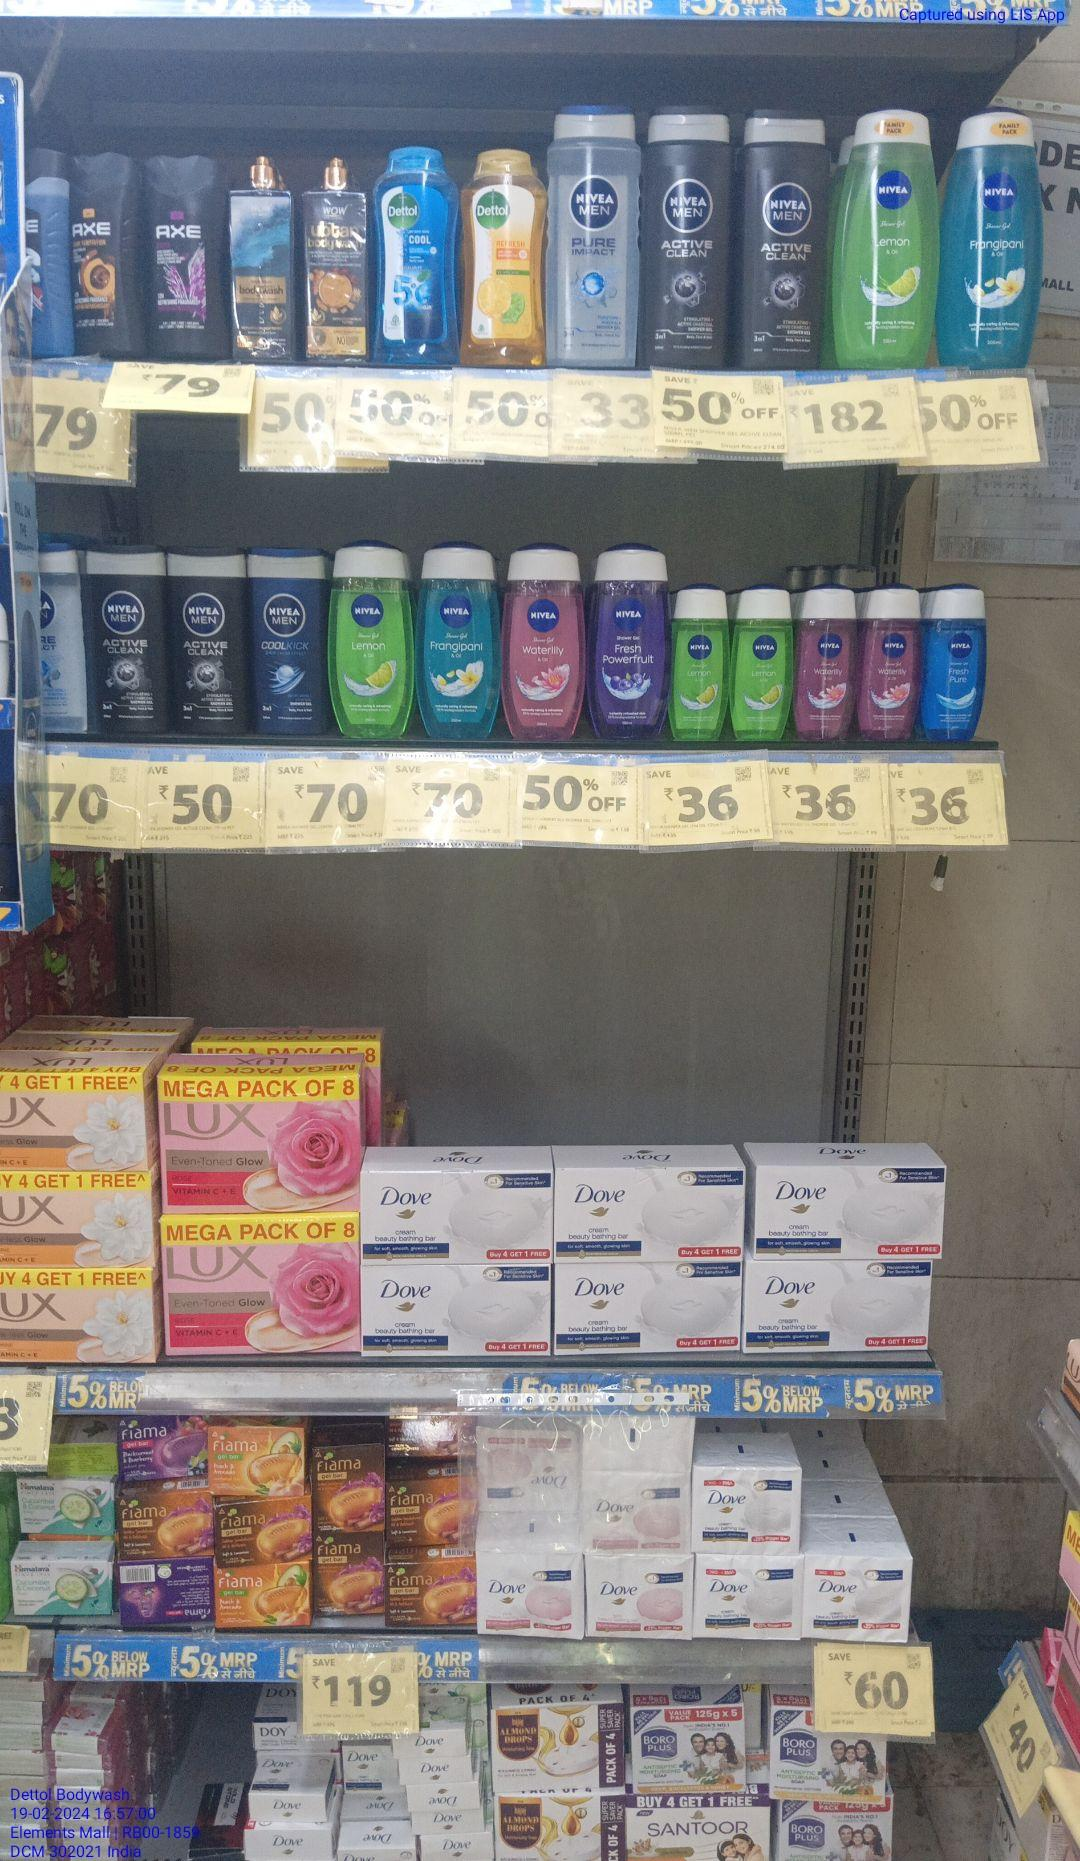Dettol_Bodywash_Cool: (374, 144, 458, 365)
Dettol_Bodywash_Refresh: (467, 143, 546, 368)
Nivea_Shower_Gel_Frangipani_and_Oil_250ML: (945, 108, 1047, 366), (417, 537, 501, 740)
Nivea_Shower_Gel_Fresh_Powerfruit_250ML: (591, 546, 667, 743)
Nivea_Shower_Gel_Lemon_and_Oil_250ML: (831, 100, 939, 369), (330, 535, 411, 738), (670, 586, 729, 742), (733, 587, 793, 738)
Nivea_Shower_Gel_Waterlily_and_Oil_250ML: (505, 545, 586, 736), (860, 586, 921, 738), (797, 587, 856, 739)
